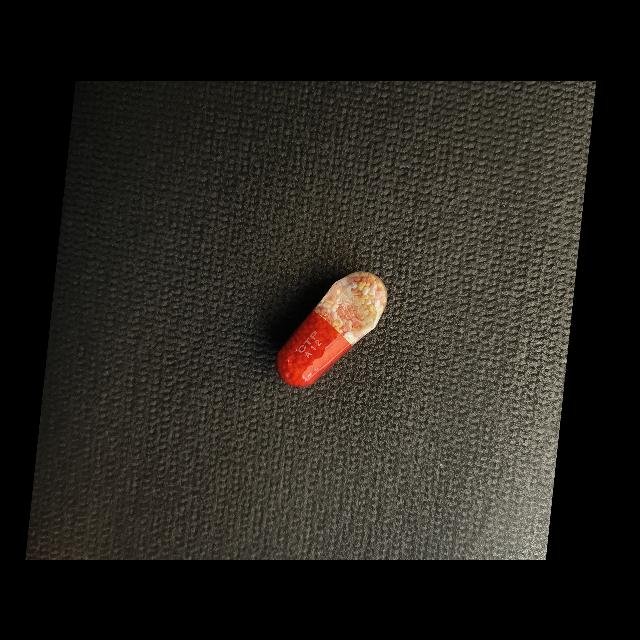Defective Capsule: (277, 271, 387, 387)
